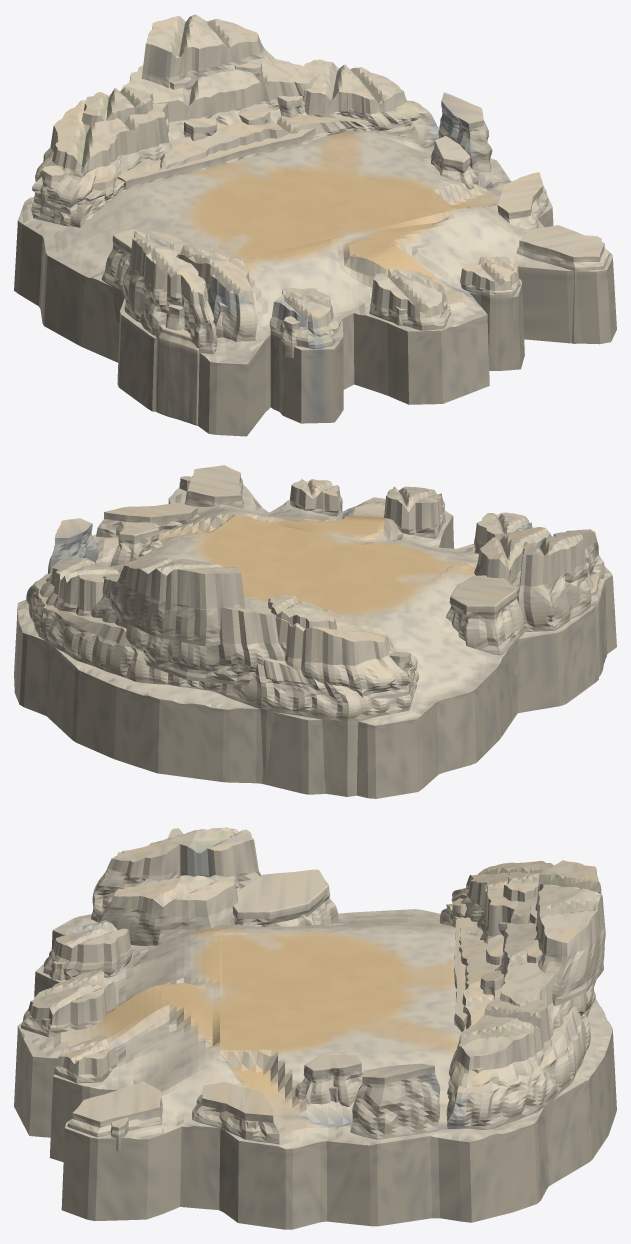
The model's file is projects-island-v2-r5-batched.glb.
The picture shows the model from 3 angles, top to bottom: view 1: azimuth 30°, elevation 25°; view 2: azimuth 150°, elevation 25°; view 3: azimuth 270°, elevation 25°; orthographic projection. The views are drawn at different scales.
Parts seen in each view (by area): view 1: Batched_1_ProjectsIsland_V2_HoneyEarth, Batched_0_ProjectsIsland_V2_Limestone; view 2: Batched_1_ProjectsIsland_V2_HoneyEarth, Batched_0_ProjectsIsland_V2_Limestone; view 3: Batched_1_ProjectsIsland_V2_HoneyEarth, Batched_0_ProjectsIsland_V2_Limestone.
Part boxes in pixels (bbox=[...]): Batched_1_ProjectsIsland_V2_HoneyEarth: bbox=[14, 130, 616, 436]; Batched_0_ProjectsIsland_V2_Limestone: bbox=[31, 14, 609, 425]; Batched_1_ProjectsIsland_V2_HoneyEarth: bbox=[14, 484, 616, 798]; Batched_0_ProjectsIsland_V2_Limestone: bbox=[26, 465, 607, 796]; Batched_1_ProjectsIsland_V2_HoneyEarth: bbox=[14, 909, 616, 1229]; Batched_0_ProjectsIsland_V2_Limestone: bbox=[21, 827, 605, 1160].
Size of the model in its own units: 68.72 by 28.91 by 70.88.
